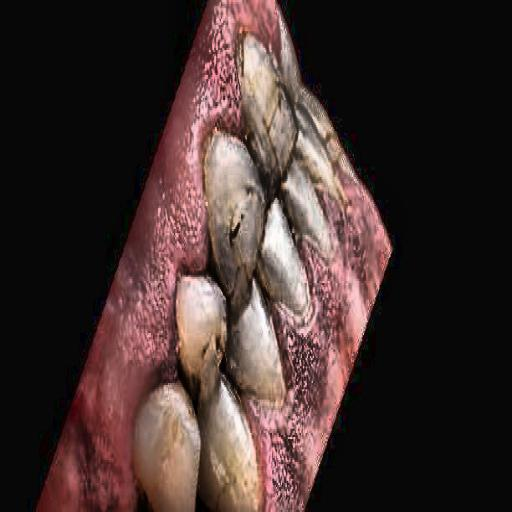Calculus: (207, 14, 335, 374), (139, 281, 233, 512)
